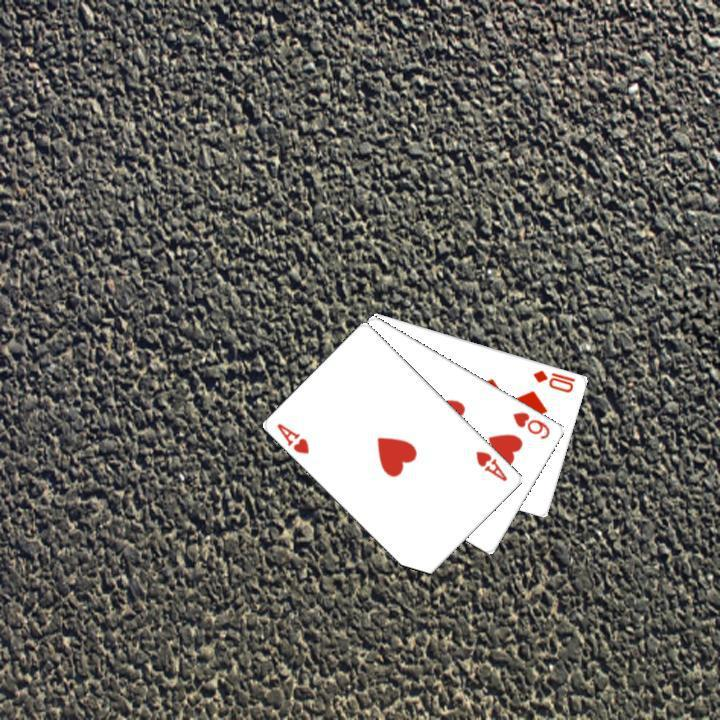10: (529, 365, 577, 394)
6: (509, 407, 552, 441)
A: (471, 446, 510, 483), (273, 419, 311, 456)
